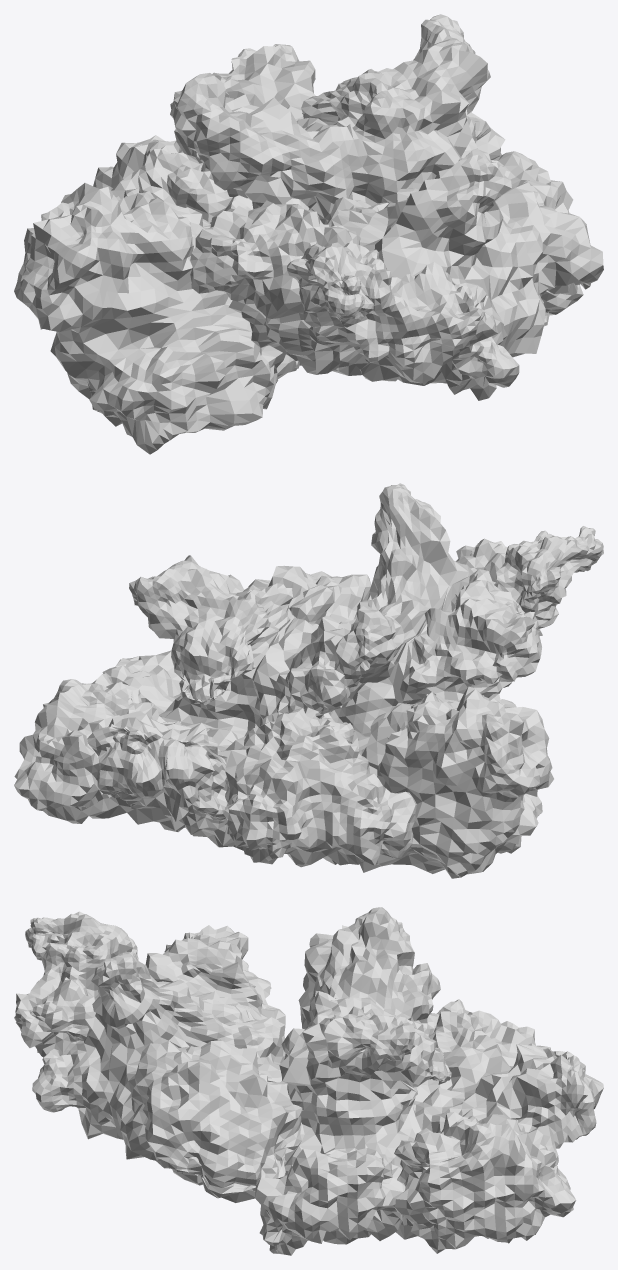
Rendered from cloud3.obj.
The picture shows the model from 3 angles, top to bottom: view 1: azimuth 30°, elevation 25°; view 2: azimuth 150°, elevation 25°; view 3: azimuth 270°, elevation 25°; orthographic projection. The views are drawn at different scales.
Visible parts, largest first — view 1: Cube.002; view 2: Cube.002; view 3: Cube.002.
Boxes of the visible parts, x1,y1,x2,y2 form: Cube.002: (14, 14, 603, 454); Cube.002: (14, 483, 603, 878); Cube.002: (14, 907, 603, 1255).
Size of the model in its own units: 4.27 by 2.46 by 4.91.
